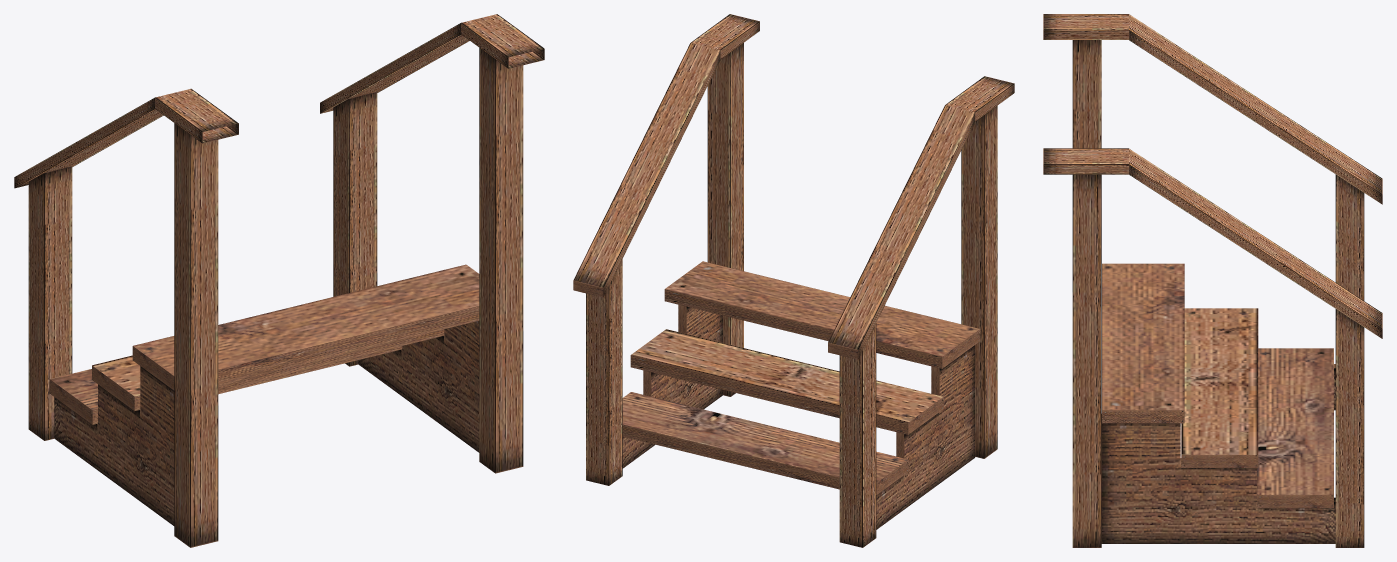
File: stairs.fbx
3 views of the same model, side by side, from view 1: azimuth 30°, elevation 25°; view 2: azimuth 150°, elevation 25°; view 3: azimuth 270°, elevation 25° (orthographic). The views are drawn at different scales.
Visible parts, largest first — view 1: mesh_9, mesh_10, mesh_6, mesh_8, mesh_4, mesh_2, mesh_3, mesh_7, mesh_5, mesh_0, mesh_1; view 2: mesh_6, mesh_0, mesh_1, mesh_5, mesh_7, mesh_10, mesh_9, mesh_4, mesh_8, mesh_2, mesh_3; view 3: mesh_3, mesh_6, mesh_1, mesh_0, mesh_9, mesh_5, mesh_7, mesh_2, mesh_10, mesh_8.
Part boxes in pixels (x1,y1,x2,y2): mesh_9: (479,48,523,473); mesh_10: (174,123,218,547); mesh_6: (132,264,479,390); mesh_8: (28,166,72,440); mesh_4: (54,366,174,525); mesh_2: (333,92,377,366); mesh_3: (358,321,479,452); mesh_7: (14,88,238,188); mesh_5: (320,14,544,113); mesh_0: (92,329,444,410); mesh_1: (49,346,402,424); mesh_6: (664,261,980,368); mesh_0: (630,329,943,434); mesh_1: (622,392,908,494); mesh_5: (573,14,759,297); mesh_7: (828,76,1014,359); mesh_10: (961,106,997,458); mesh_9: (707,43,743,396); mesh_4: (876,345,975,529); mesh_8: (839,323,876,547); mesh_2: (586,259,622,485); mesh_3: (622,304,722,468); mesh_3: (1101,414,1335,543); mesh_6: (1102,263,1184,423); mesh_1: (1257,348,1333,507); mesh_0: (1181,308,1258,467); mesh_9: (1072,174,1101,547); mesh_5: (1043,148,1382,338); mesh_7: (1043,14,1382,204); mesh_2: (1335,309,1364,547); mesh_10: (1072,40,1101,148); mesh_8: (1335,174,1364,300).
Size of the model in its own units: 145 by 174 by 138.
Materials: 1 (1 with a texture image).
